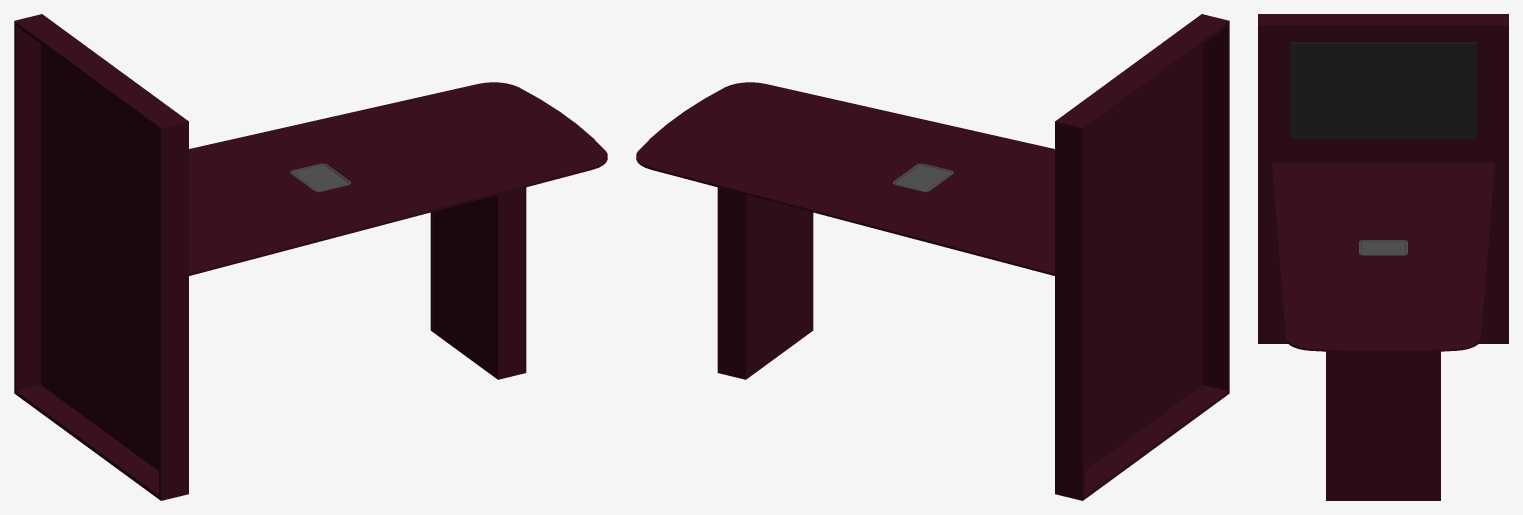
Rendered from test-materials-rvt-collada.dae.
The picture shows the model from 3 angles, left to right: view 1: azimuth 30°, elevation 25°; view 2: azimuth 150°, elevation 25°; view 3: azimuth 270°, elevation 25°; orthographic projection. The views are drawn at different scales.
Visible parts, largest first — view 1: ID50, ID54, ID20, ID16, ID12, ID7, ID35; view 2: ID50, ID54, ID20, ID16, ID12, ID7, ID35; view 3: ID54, ID50, ID16, ID45, ID12, ID40, ID35.
Boxes of the visible parts, x1=… form: ID50: x1=14, y1=14, x2=188, y2=500; ID54: x1=189, y1=82, x2=607, y2=275; ID20: x1=433, y1=195, x2=495, y2=377; ID16: x1=430, y1=187, x2=526, y2=379; ID12: x1=16, y1=16, x2=183, y2=130; ID7: x1=16, y1=385, x2=158, y2=498; ID35: x1=293, y1=165, x2=348, y2=190; ID50: x1=1055, y1=14, x2=1229, y2=500; ID54: x1=636, y1=82, x2=1054, y2=275; ID20: x1=748, y1=195, x2=810, y2=377; ID16: x1=717, y1=187, x2=813, y2=379; ID12: x1=1060, y1=16, x2=1227, y2=130; ID7: x1=1085, y1=385, x2=1227, y2=498; ID35: x1=895, y1=165, x2=950, y2=190; ID54: x1=1272, y1=162, x2=1494, y2=353; ID50: x1=1258, y1=14, x2=1508, y2=343; ID16: x1=1326, y1=351, x2=1440, y2=500; ID45: x1=1292, y1=45, x2=1474, y2=135; ID12: x1=1261, y1=14, x2=1505, y2=24; ID40: x1=1290, y1=42, x2=1476, y2=138; ID35: x1=1361, y1=241, x2=1405, y2=254.
Size of the model in its own units: 2.59 by 1.37 by 1.92.
